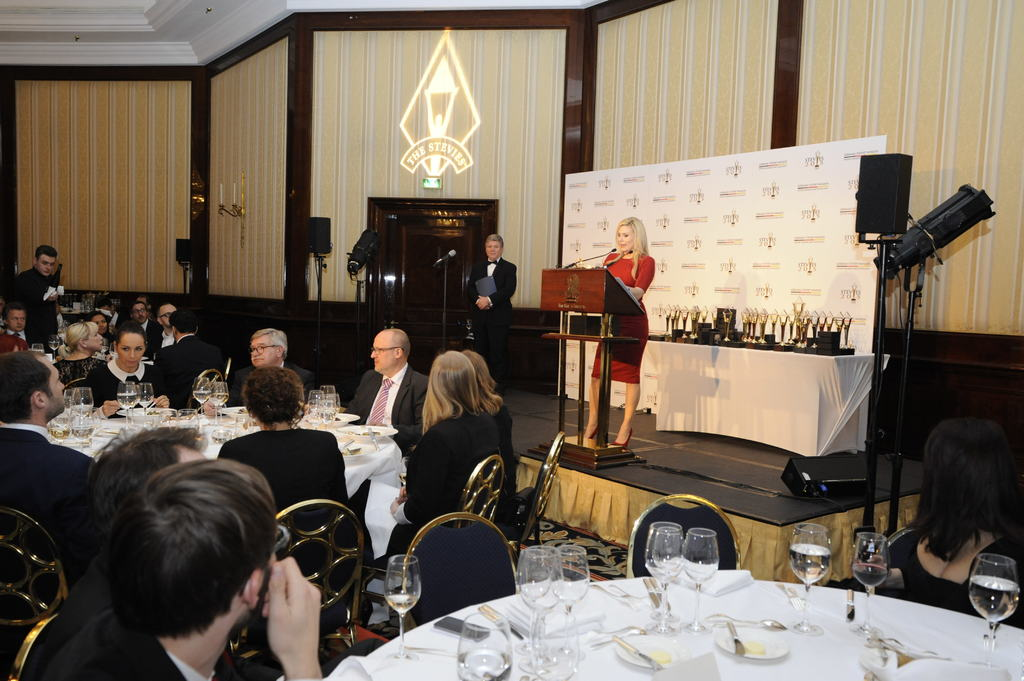Human-face: (44, 364, 66, 417), (368, 333, 397, 373), (250, 333, 281, 364), (118, 333, 142, 365), (617, 223, 637, 253), (37, 252, 57, 278), (84, 330, 104, 351), (7, 310, 25, 333), (163, 304, 179, 329), (130, 301, 148, 323), (483, 239, 500, 262)
